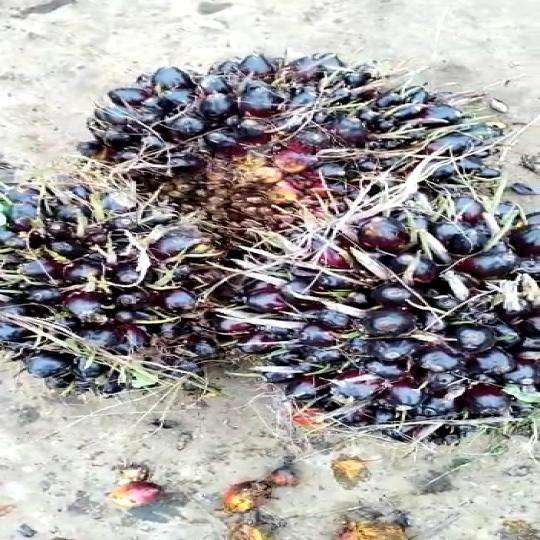mentah: (63, 43, 496, 252), (201, 188, 540, 451), (0, 176, 273, 414)
